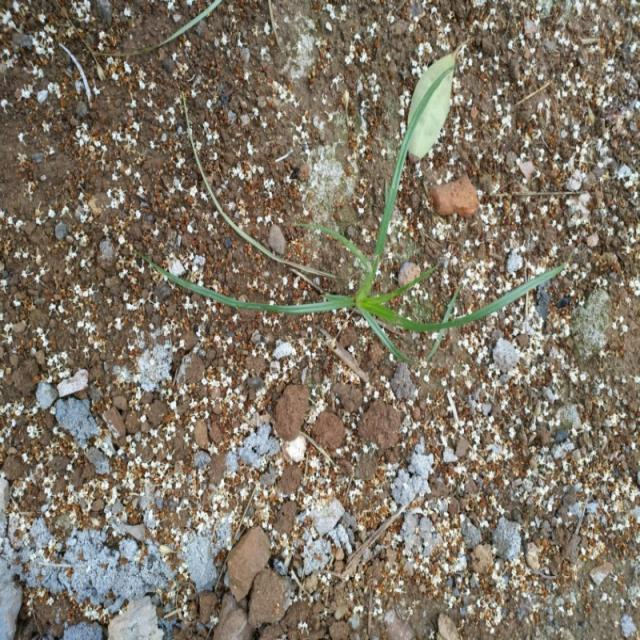sedge: (175, 99, 516, 395)
